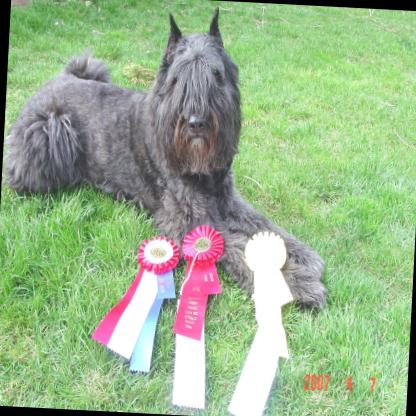Bouvier_des_Flandres: (0, 0, 343, 316)
